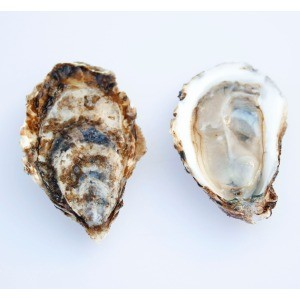oyster_brain food: (177, 65, 276, 226), (44, 95, 136, 235)
